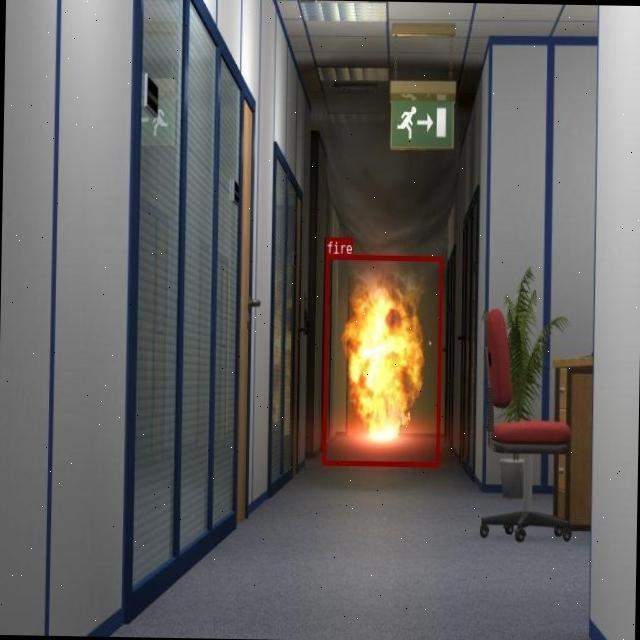fire: (322, 253, 442, 466)
